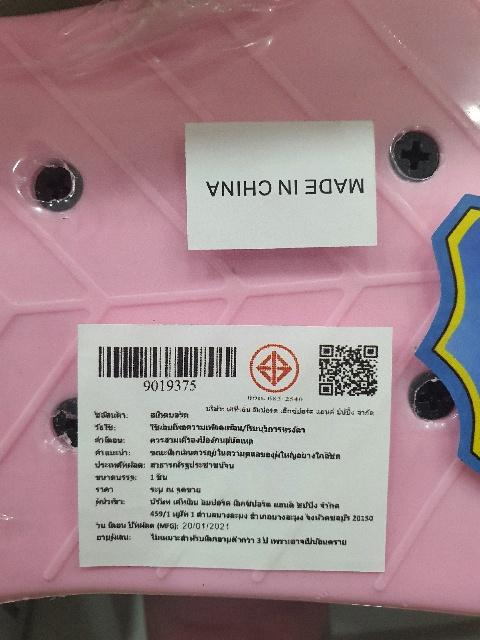Barcode: (89, 337, 246, 395)
